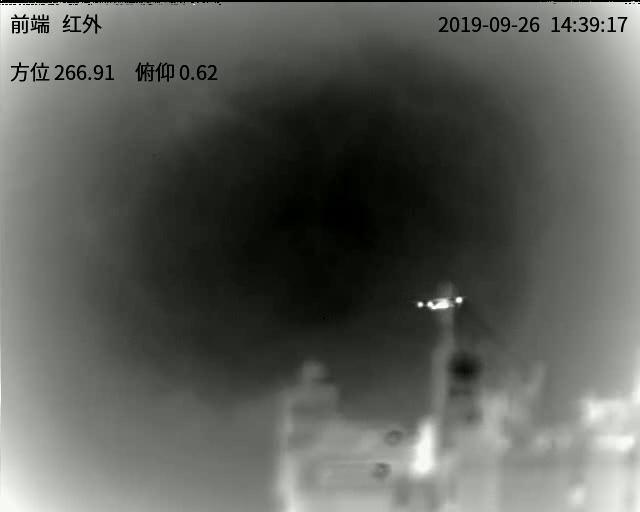DRONE: (416, 296, 465, 310)
